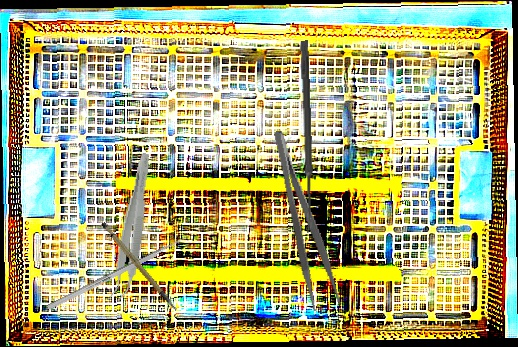Dressing Forceps: (269, 125, 343, 313)
Pusher: (46, 231, 195, 311)
Scalpel Handle: (99, 214, 178, 321)
Surgical Spoon: (299, 40, 315, 233)
Tissue Forceps: (106, 150, 156, 304)
